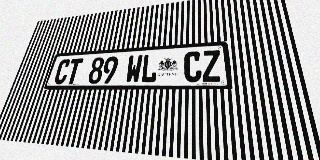8: (87, 57, 106, 84)
9: (100, 56, 119, 84)
C: (184, 51, 202, 82), (53, 59, 72, 84)
L: (140, 54, 158, 83)
T: (65, 58, 83, 84)
W: (125, 55, 143, 83)
Z: (202, 50, 222, 82)
